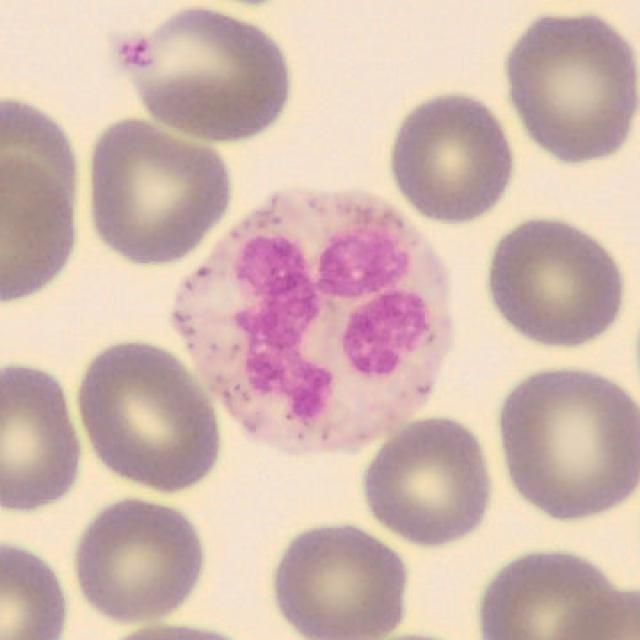Neutrofilo segmentado: (169, 188, 453, 459)
